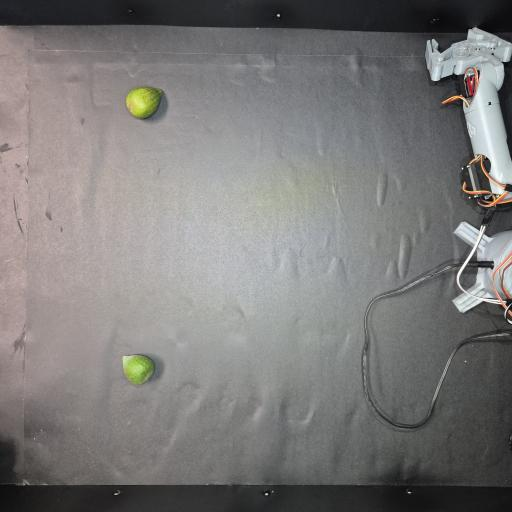higo: (125, 87, 162, 118), (123, 355, 155, 385)
